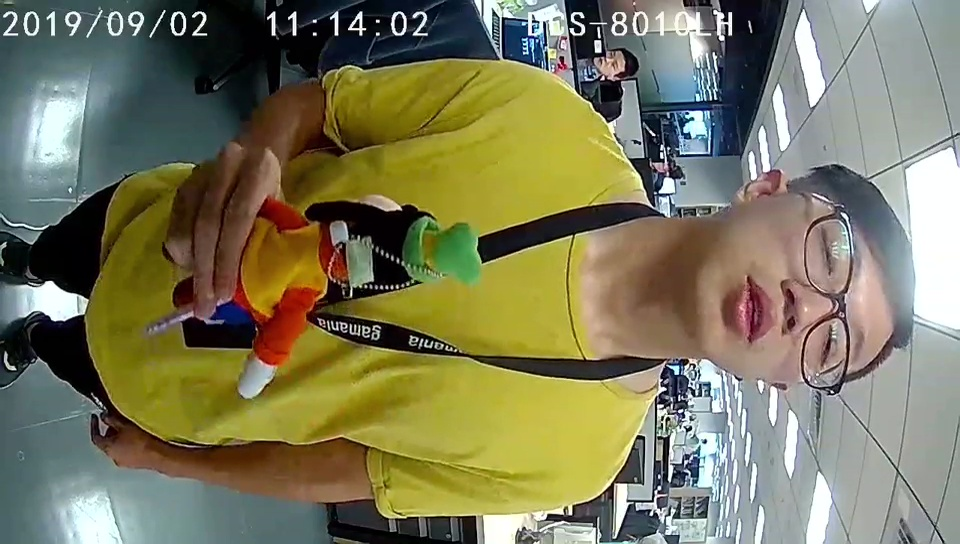goofy: (257, 201, 482, 404)
